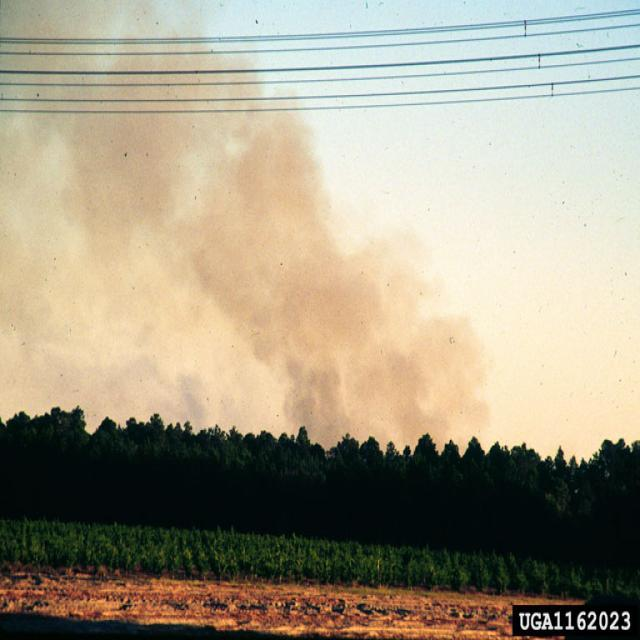Smoke: (0, 0, 492, 457)
